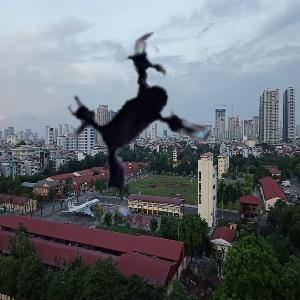drone: (44, 23, 255, 234)
